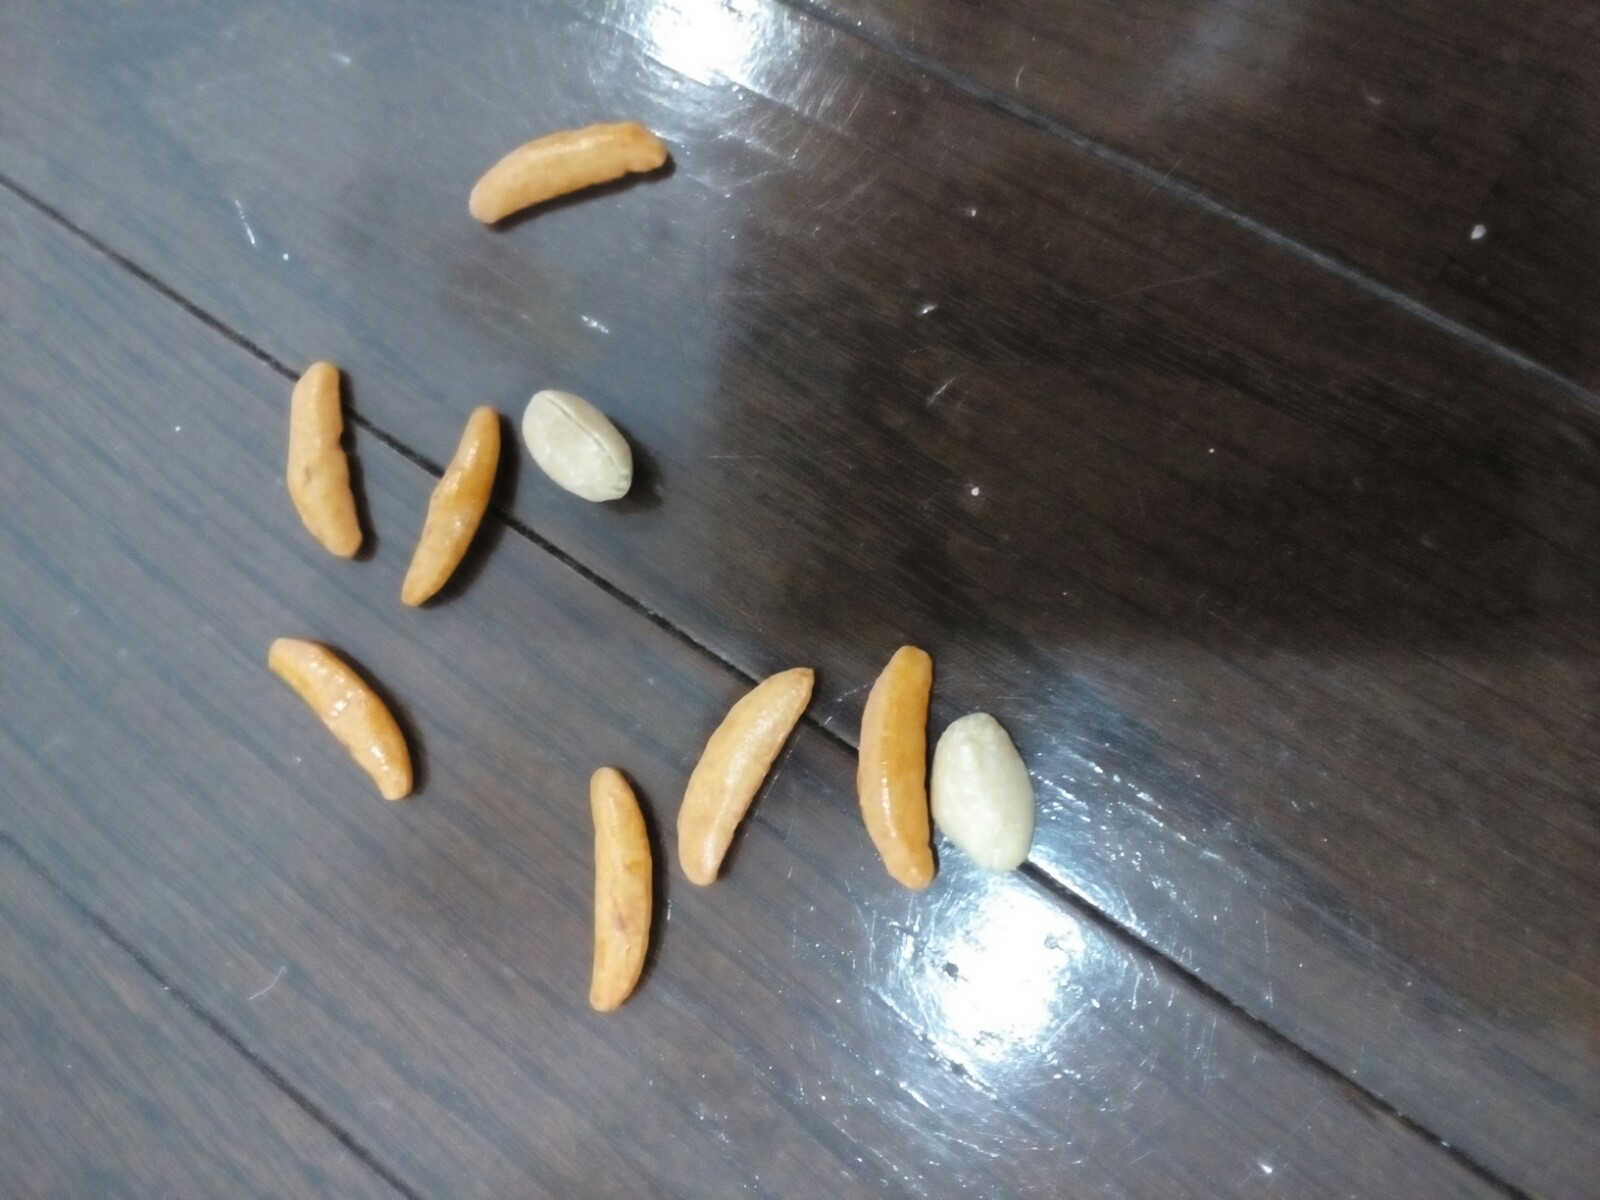peanut: (921, 698, 1048, 892), (511, 377, 641, 509)
